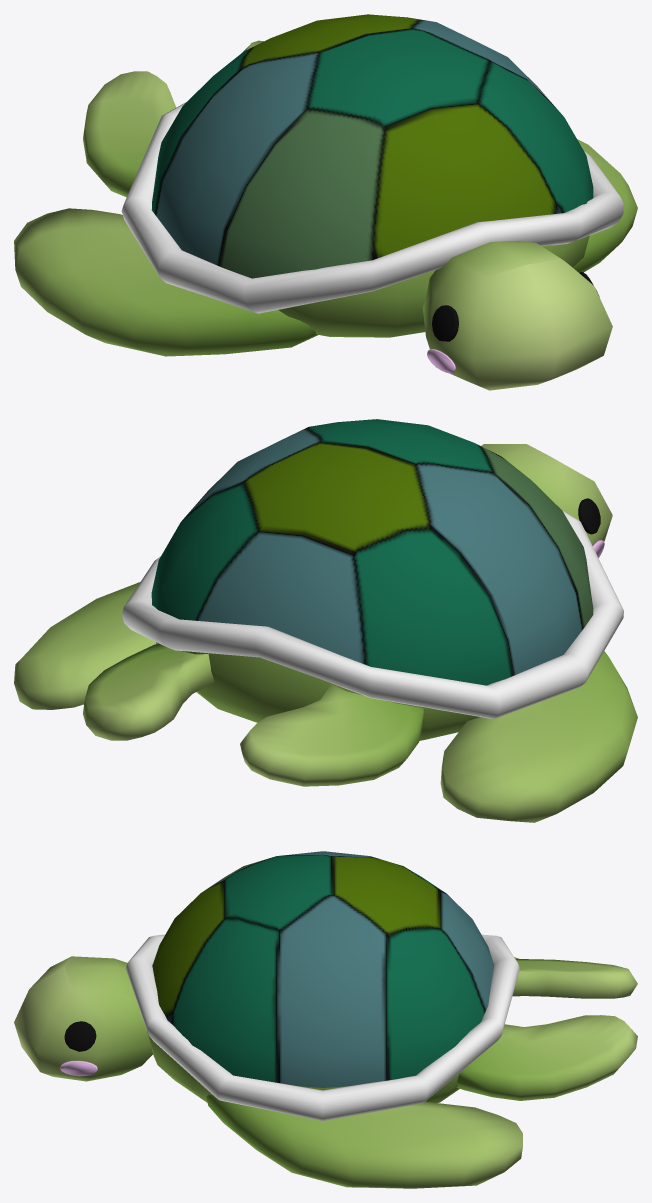
File: turtle.glb
3 renders of one model, top to bottom at view 1: azimuth 30°, elevation 25°; view 2: azimuth 150°, elevation 25°; view 3: azimuth 270°, elevation 25°, orthographic. The views are drawn at different scales.
Parts seen in each view (by area): view 1: Cube.004; view 2: Cube.004; view 3: Cube.004.
Boxes of the visible parts, <box> form: Cube.004: <box>14,14,637,390</box>; Cube.004: <box>14,419,637,822</box>; Cube.004: <box>14,851,637,1188</box>.
Bounding box in the file's own units: 2.25 × 0.9823 × 2.61.
1 material, 1 textured.
